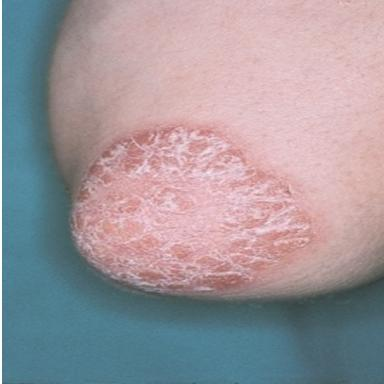Psoriasis: (73, 126, 315, 294)
